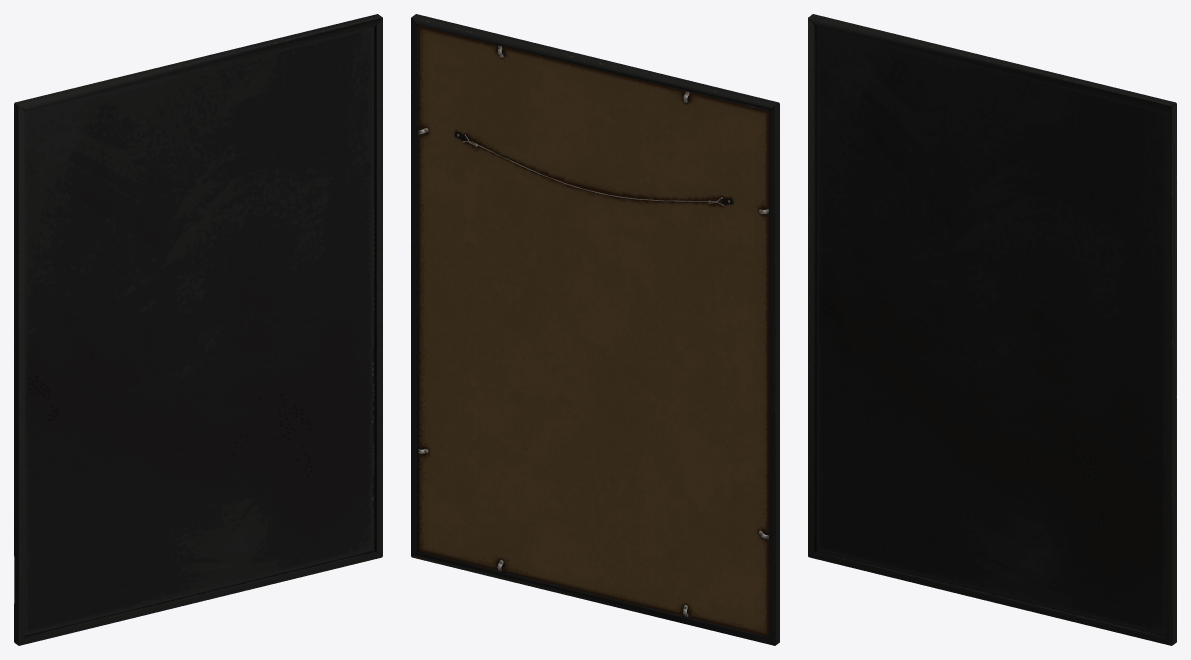
The model's file is hanging_picture_frame_01.glb.
3 views of the same model, side by side, from view 1: azimuth 30°, elevation 25°; view 2: azimuth 150°, elevation 25°; view 3: azimuth 330°, elevation 25° (orthographic).
Parts seen in each view (by area): view 1: hanging_picture_frame_01; view 2: hanging_picture_frame_01; view 3: hanging_picture_frame_01.
Part boxes in pixels (x1,y1,x2,y2): hanging_picture_frame_01: (14, 14, 382, 645); hanging_picture_frame_01: (411, 14, 779, 645); hanging_picture_frame_01: (808, 14, 1176, 645).
Size of the model in its own units: 0.594 by 0.841 by 0.0154.
3 materials, 3 textured.
